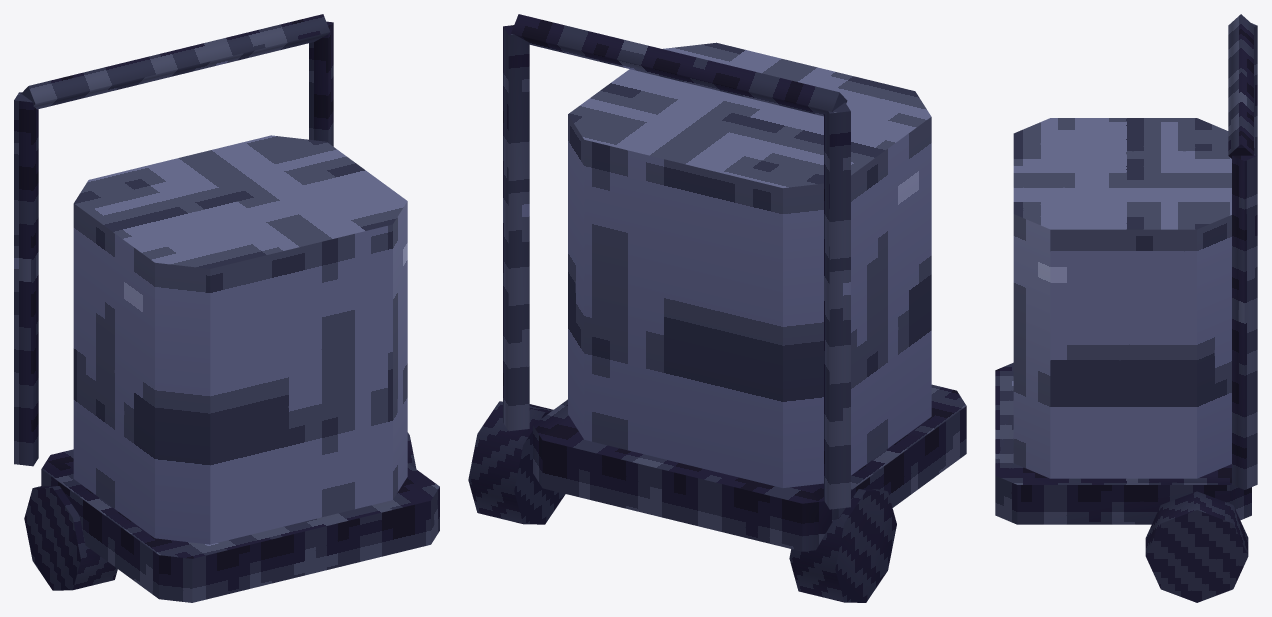
The model's file is cydress.cart.glb.
3 renders of one model, left to right at view 1: azimuth 30°, elevation 25°; view 2: azimuth 150°, elevation 25°; view 3: azimuth 270°, elevation 25°, orthographic. The views are drawn at different scales.
Parts seen in each view (by area): view 1: kit_body; view 2: kit_body; view 3: kit_body.
Part boxes in pixels (x1=…): kit_body: x1=14, y1=14, x2=439, y2=602; kit_body: x1=468, y1=14, x2=966, y2=602; kit_body: x1=995, y1=14, x2=1257, y2=602.
Size of the model in its own units: 0.995 by 1.33 by 0.715.
3 materials, 3 textured.
